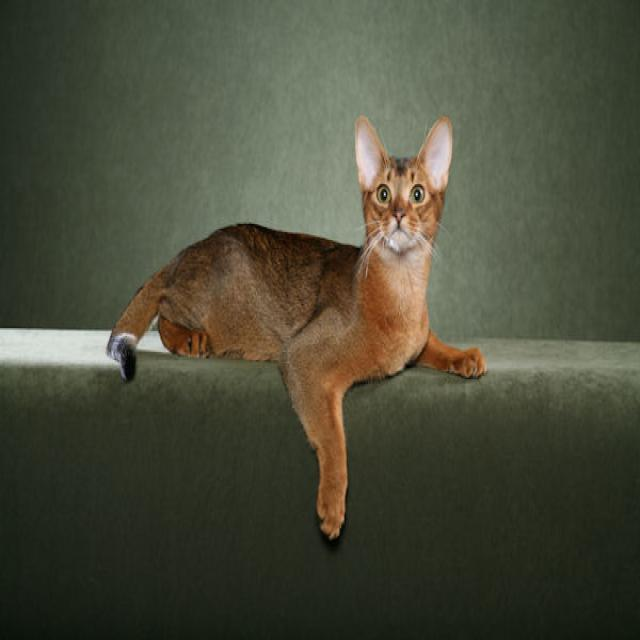Abyssinian: (354, 114, 452, 251)
